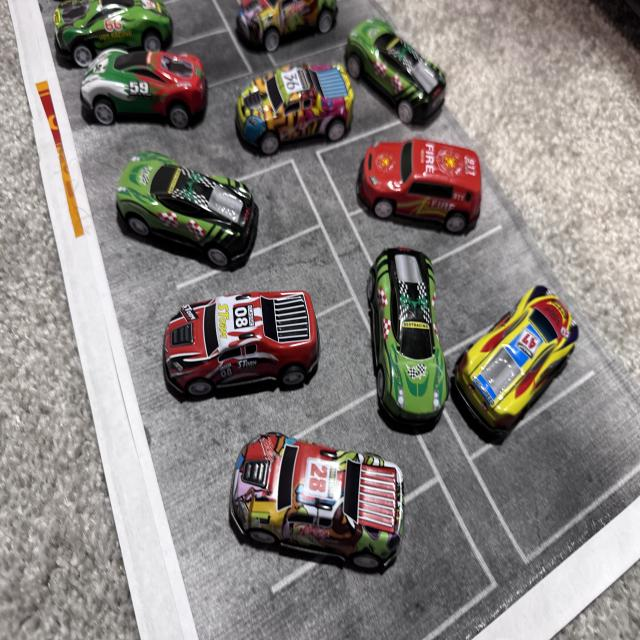Car: (442, 253, 598, 470), (328, 109, 532, 255), (218, 433, 429, 558), (136, 284, 327, 421), (368, 253, 487, 461), (83, 164, 275, 279), (321, 0, 456, 153), (58, 23, 214, 141), (223, 51, 372, 166), (220, 0, 431, 57), (0, 0, 185, 52)
